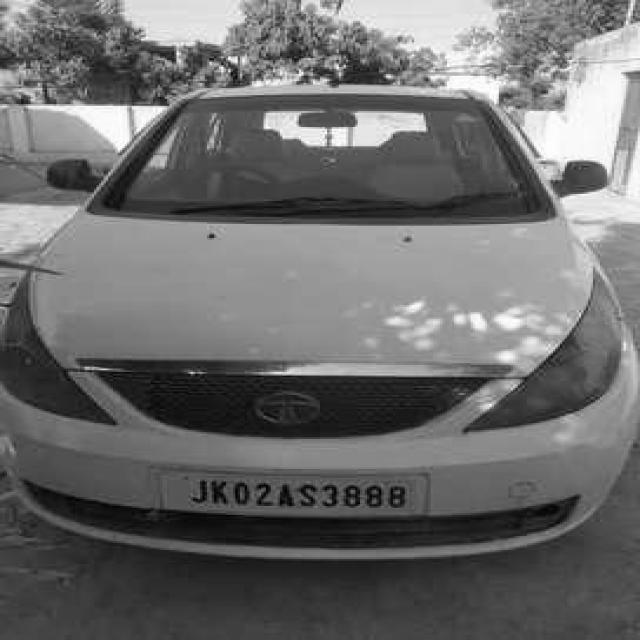car: (0, 70, 640, 574)
license-plate: (165, 471, 438, 518)
